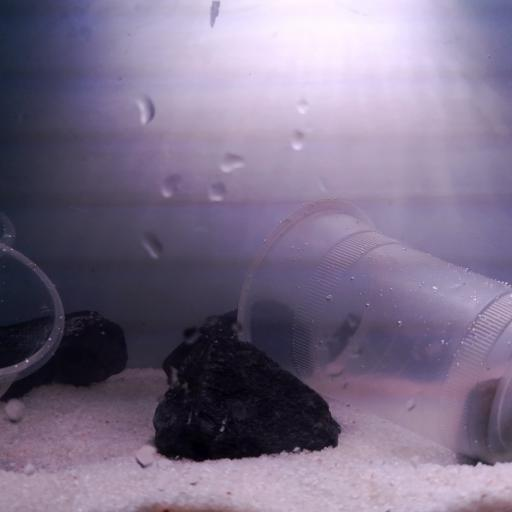plastic_cup: (234, 194, 512, 462), (0, 239, 77, 398)
